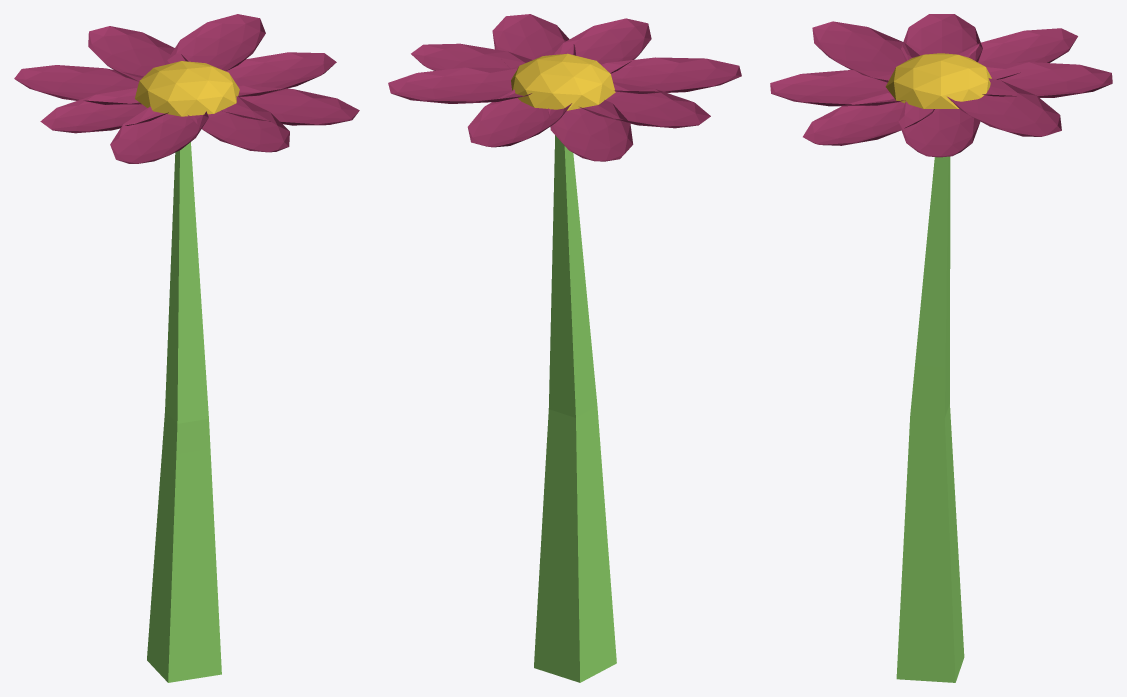
The model's file is Flor.fbx.
3 renders of one model, left to right at view 1: azimuth 30°, elevation 25°; view 2: azimuth 150°, elevation 25°; view 3: azimuth 270°, elevation 25°, orthographic. The views are drawn at different scales.
Visible parts, largest first — view 1: Icosphere.002, Cube, Icosphere; view 2: Cube, Icosphere.002, Icosphere; view 3: Icosphere.002, Cube, Icosphere.
Boxes of the visible parts, bbox=[...] form: Icosphere.002: bbox=[14, 14, 359, 163]; Cube: bbox=[147, 142, 221, 682]; Icosphere: bbox=[135, 61, 239, 116]; Cube: bbox=[534, 135, 616, 682]; Icosphere.002: bbox=[388, 14, 741, 161]; Icosphere: bbox=[511, 53, 615, 110]; Icosphere.002: bbox=[770, 14, 1112, 157]; Cube: bbox=[896, 156, 964, 682]; Icosphere: bbox=[885, 53, 991, 108].
Size of the model in its own units: 221 by 442 by 224.
